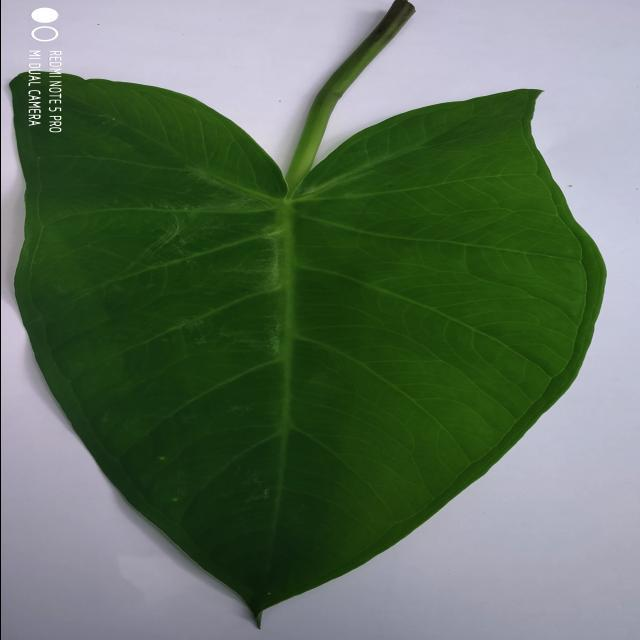leaf: (8, 0, 607, 629)
